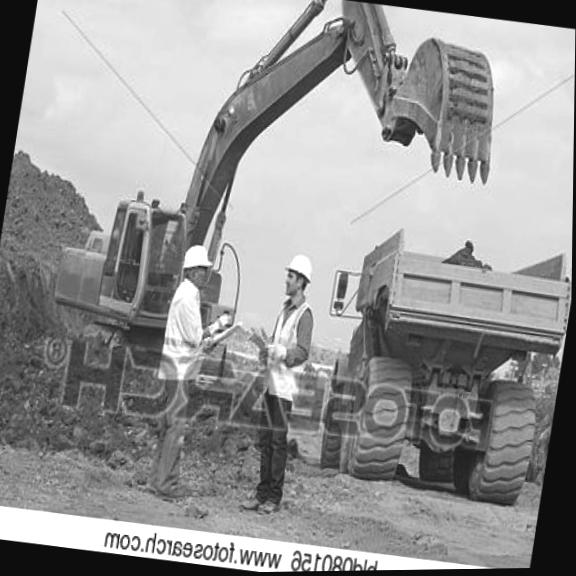safety_vest: (157, 277, 217, 394), (254, 296, 314, 403)
